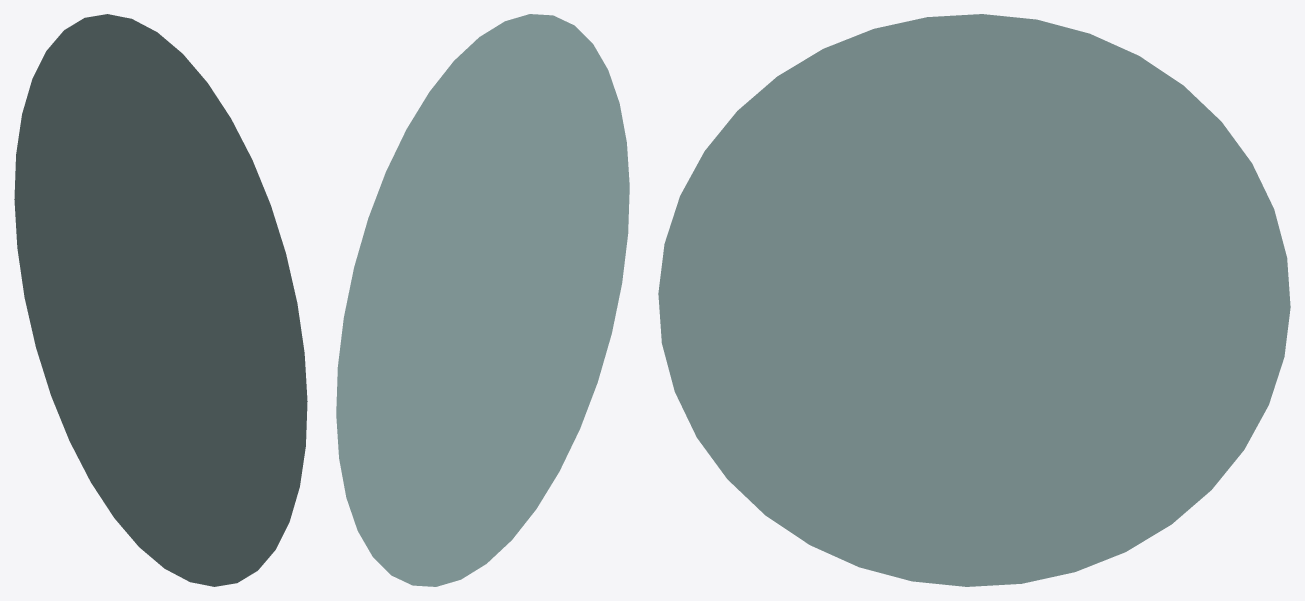
The model's file is BC_WindowDeco_A_05.fbx.
3 renders of one model, left to right at view 1: azimuth 30°, elevation 25°; view 2: azimuth 150°, elevation 25°; view 3: azimuth 270°, elevation 25°, orthographic. The views are drawn at different scales.
Parts seen in each view (by area): view 1: BC_WindowDeco_A_05; view 2: BC_WindowDeco_A_05; view 3: BC_WindowDeco_A_05.
Boxes of the visible parts, <box> form: BC_WindowDeco_A_05: <box>14,14,307,586</box>; BC_WindowDeco_A_05: <box>336,14,629,586</box>; BC_WindowDeco_A_05: <box>658,14,1290,586</box>.
Size of the model in its own units: 8.86e-05 by 744 by 744.
